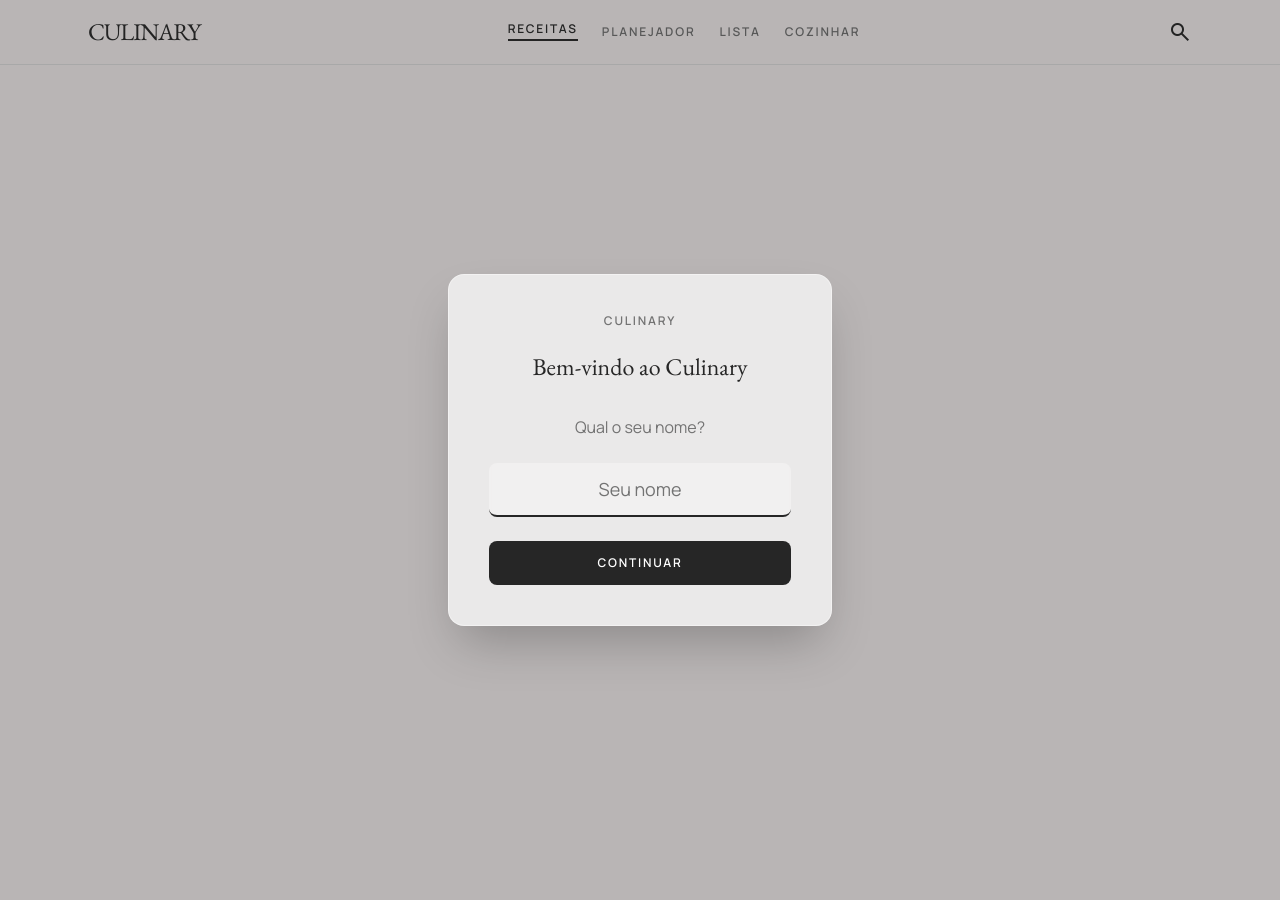
Fluxo de nome do usuário (NavBar + Popup) › ao confirmar o nome, mostra 'Cozinheiro NOME' no NavBar e fecha o popup
This screenshot has width=1280, height=900.
Type "Ana" into the field labelled "Seu nome" at (640,490), box [489,463,791,517]
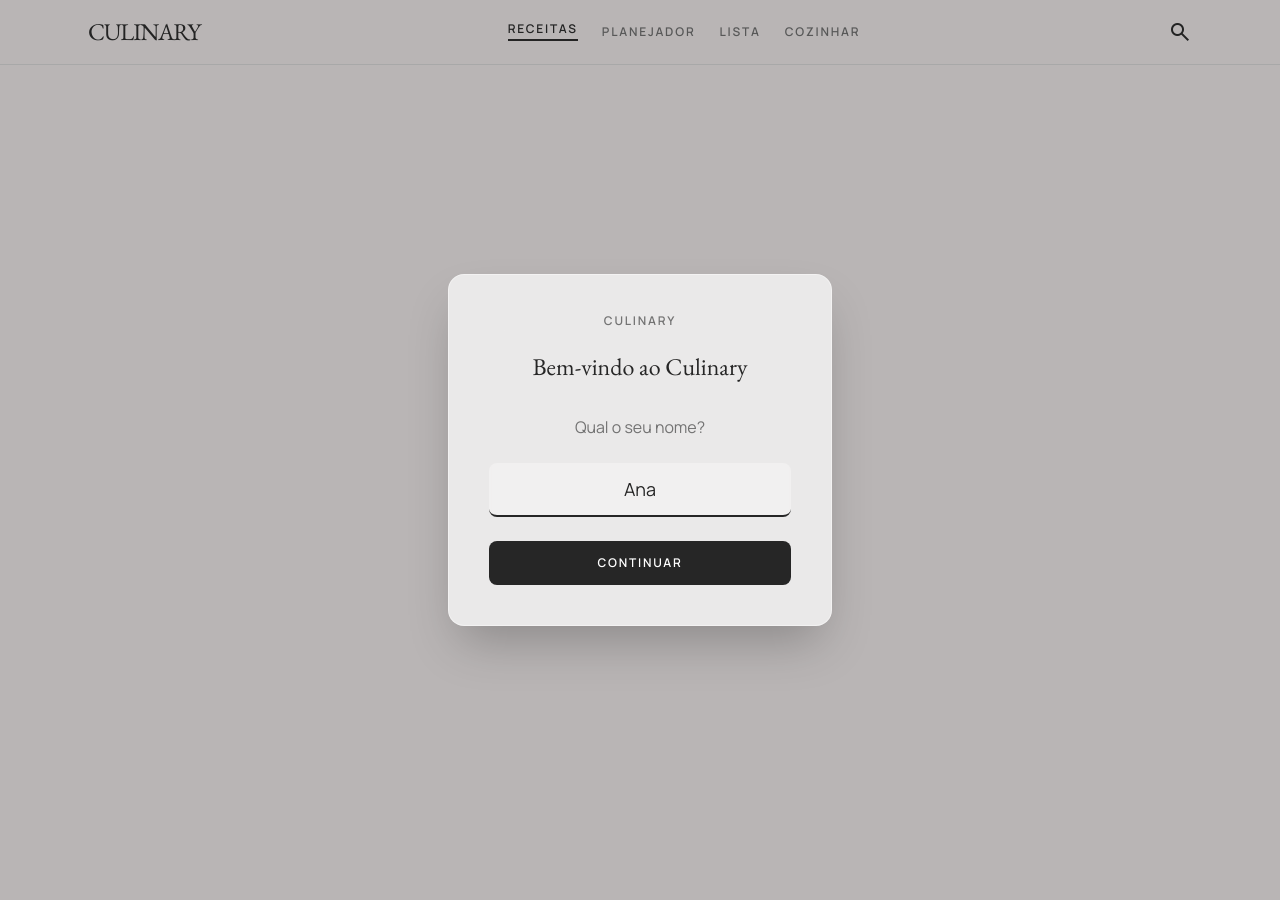
Click the button "Continuar" at (640,563), box [489,541,791,585]
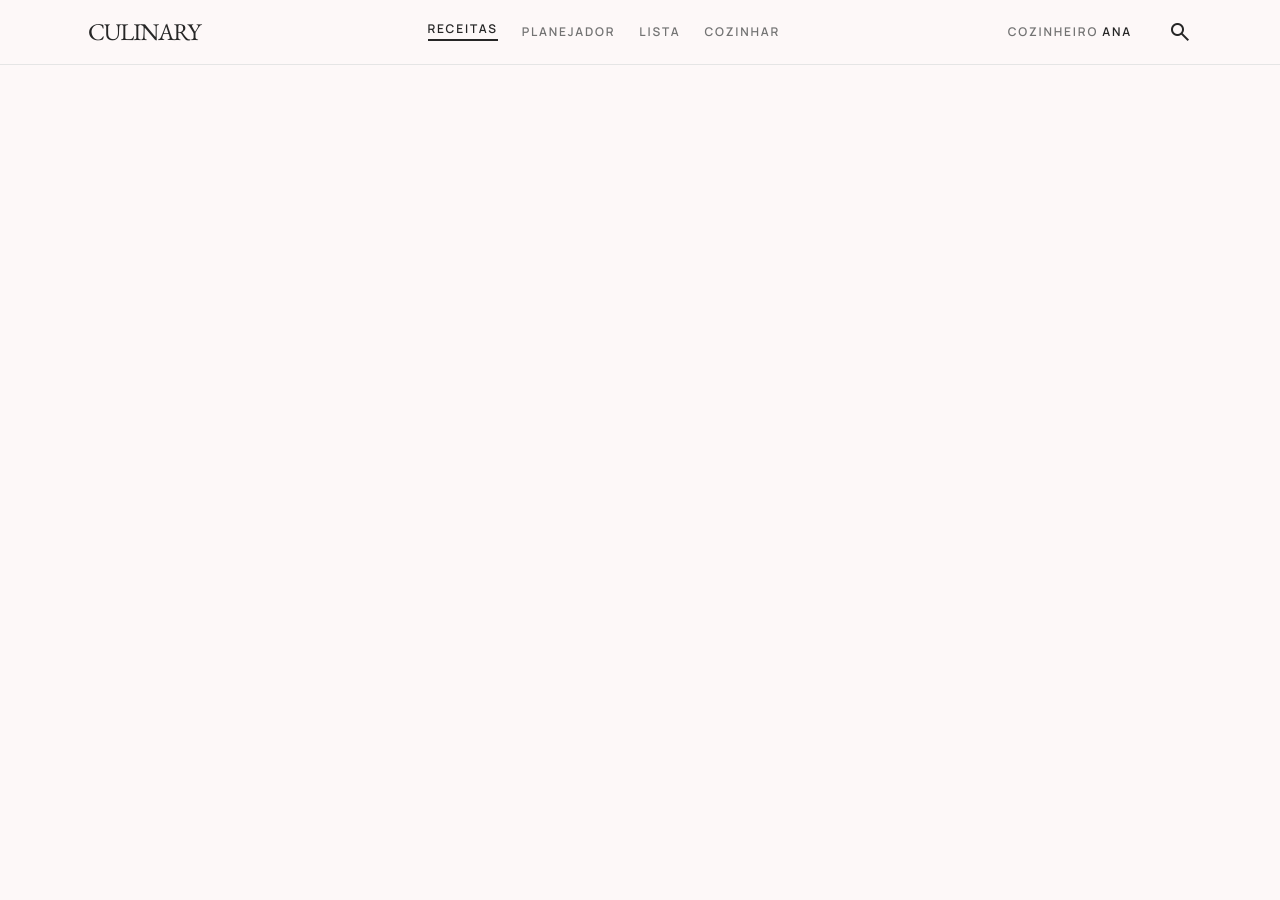
Check: the dialog is gone
Check: the button with aria-label "alterar nome do cozinheiro" shows "Cozinheiro", box [1008,26,1132,38]
Check: the button with aria-label "alterar nome do cozinheiro" shows "Ana", box [1008,26,1132,38]
